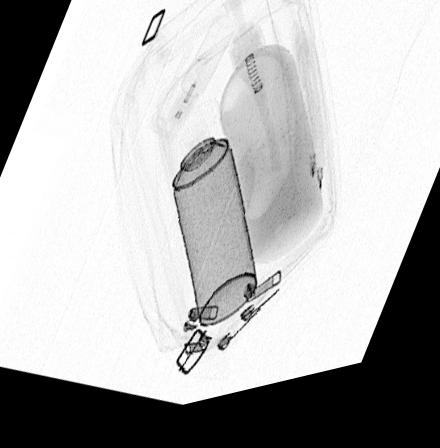Sprayer: (160, 108, 256, 338)
